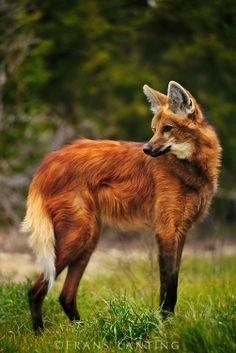LoboGuara: (23, 78, 224, 337)
